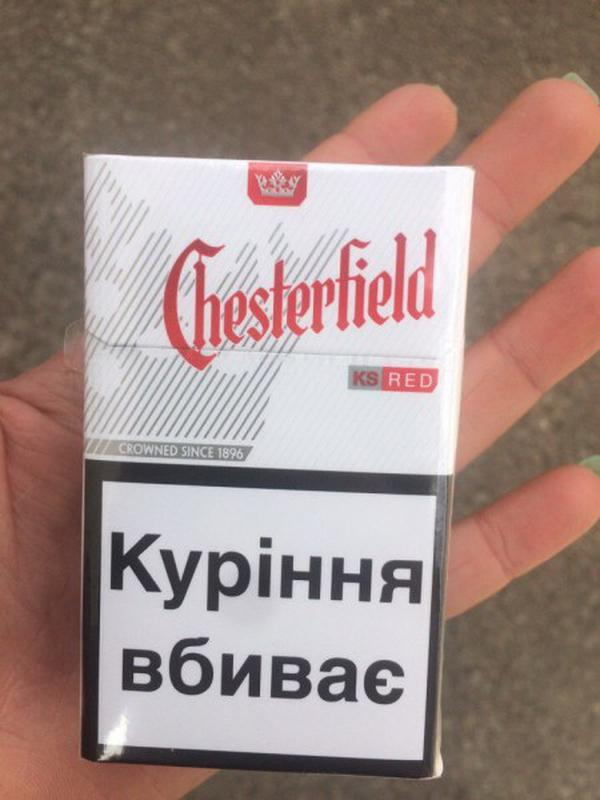chesterfield_red: (83, 160, 445, 762)
